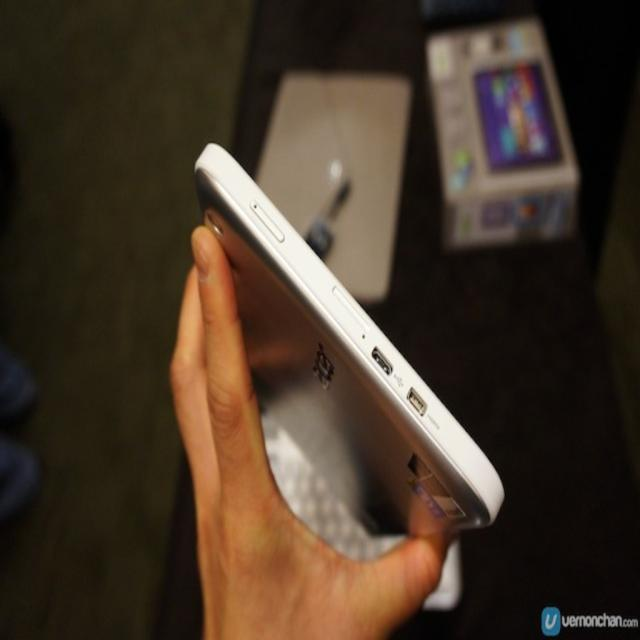Mobile-phone: (184, 152, 509, 571)
